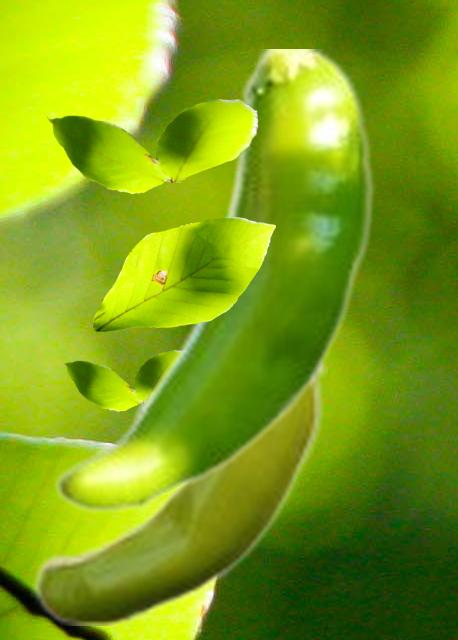green_chili: (52, 49, 374, 514), (31, 364, 326, 624)
